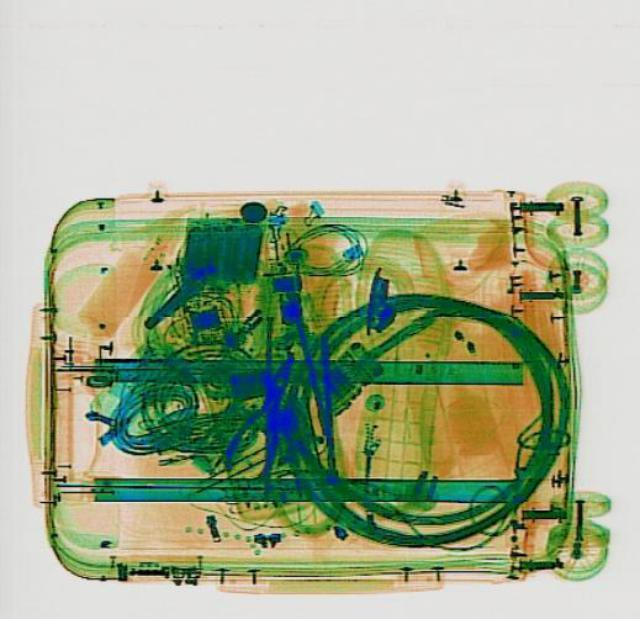Pliers: (213, 347, 317, 484)
